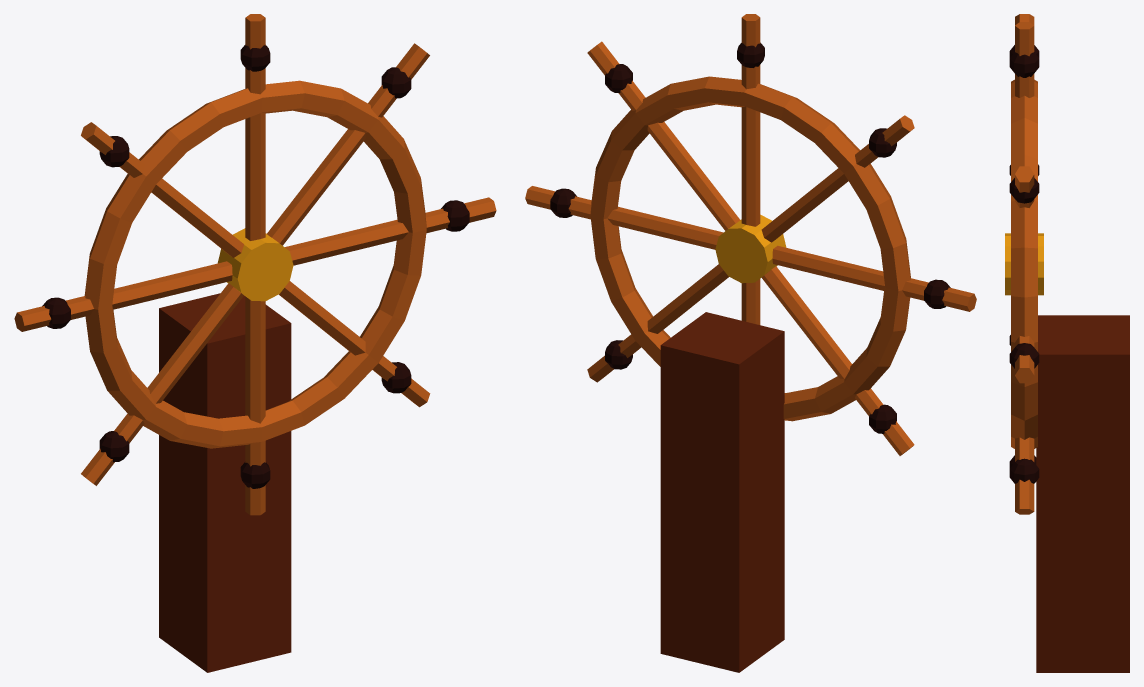
File: upgrade_ship_s_wheel_ash_rudder.three-web-toon.glb
3 renders of one model, left to right at view 1: azimuth 30°, elevation 25°; view 2: azimuth 150°, elevation 25°; view 3: azimuth 270°, elevation 25°, orthographic. The views are drawn at different scales.
Visible parts, largest first — view 1: upgrade_ship_s_wheel_ash_rudder_mesh; view 2: upgrade_ship_s_wheel_ash_rudder_mesh; view 3: upgrade_ship_s_wheel_ash_rudder_mesh.
Part boxes in pixels (<box>): upgrade_ship_s_wheel_ash_rudder_mesh: <box>14,14,496,672</box>; upgrade_ship_s_wheel_ash_rudder_mesh: <box>525,14,976,672</box>; upgrade_ship_s_wheel_ash_rudder_mesh: <box>1005,14,1129,672</box>.
Size of the model in its own units: 1.35 by 1.78 by 0.32.
